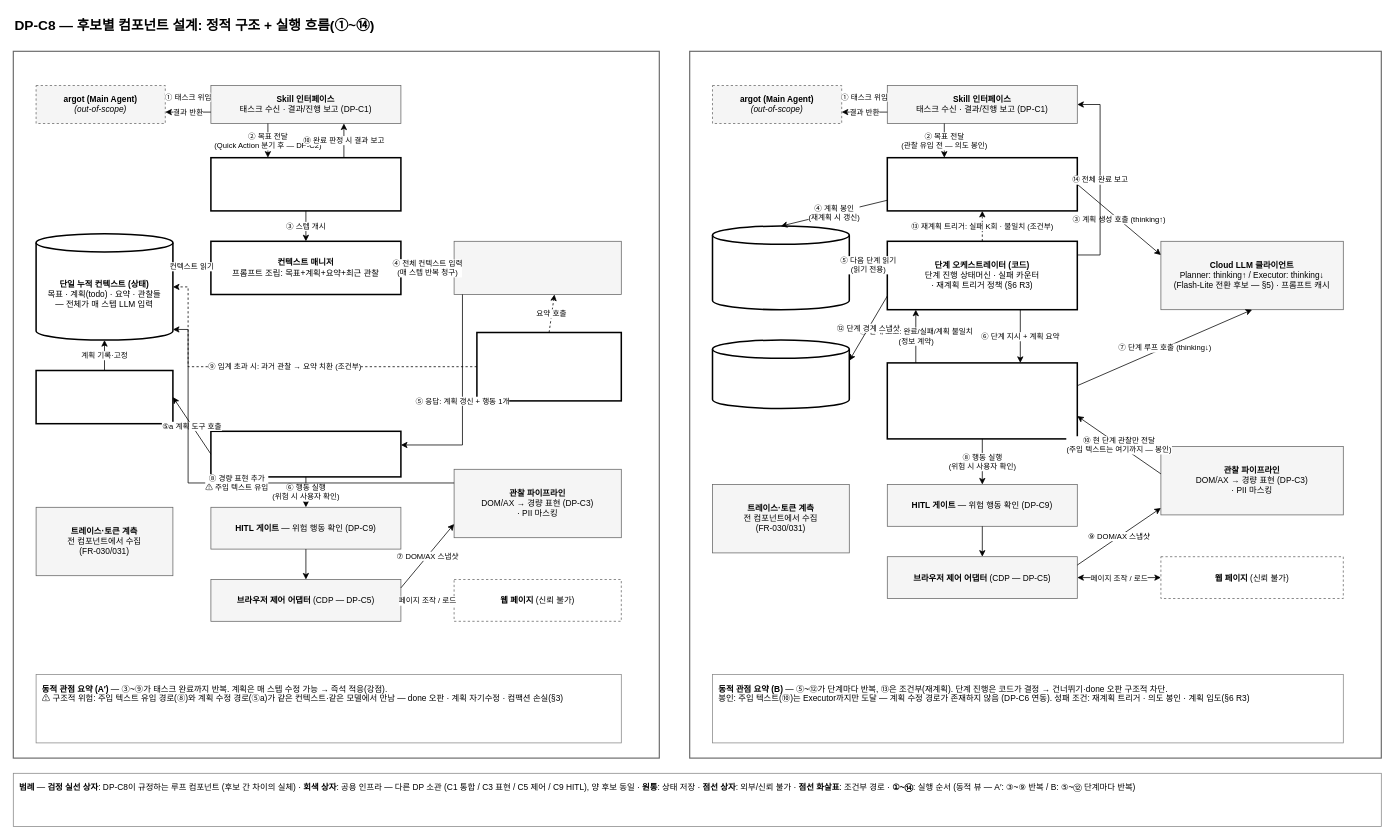
Some shapes in this 1395 by 840 pixel diagram are drawn without their labels. The box of each missing label's shape, as (x1, y1, x2, y2) in pixels:
Cloud LLM 클라이언트 3.5 Flash · 프롬프트 캐시: (453, 241, 621, 294)
Executor 단계별 미니 루프 · 격리 컨텍스트 조립 (계획 요약 + 단계 지시 + 현 단계 관찰만) 계획 수정 권한 없음 — 보고 채널만: (886, 362, 1078, 439)
Planner 목표 → 단계 열 분해 (thinking↑) 태스크당 1회 + 재계획 시: (886, 157, 1078, 211)
계획 도구 (plan/todo tool) 작성 · 체크오프 · 수정 ⚠ 호출 주체 = 같은 LLM: (35, 369, 173, 424)
루프 컨트롤러 스텝 반복 · 완료/최대 스텝 판정 · 오류 재시도: (210, 157, 401, 211)
봉인된 계획 (상태) 단계 열 · 단계 상태 — Executor 읽기 전용: (711, 225, 850, 310)
체크포인트 (상태) 단계 경계 스냅샷 (NFR-028 · DP-C9 재개): (711, 339, 850, 409)
컴팩터 임계 감시 · 과거 관찰 요약 치환 · 원본은 트레이스에 보존: (476, 331, 622, 401)
행동 디스패처 LLM 출력 파싱 → 도구 실행 분기: (210, 430, 401, 477)
후보 A′ — 컴포넌트 구성 (단일 루프 + 명시적 계획 + 컴팩션): (12, 50, 660, 758)
후보 B — 컴포넌트 구성 (Planner-Executor): (689, 50, 1382, 758)
